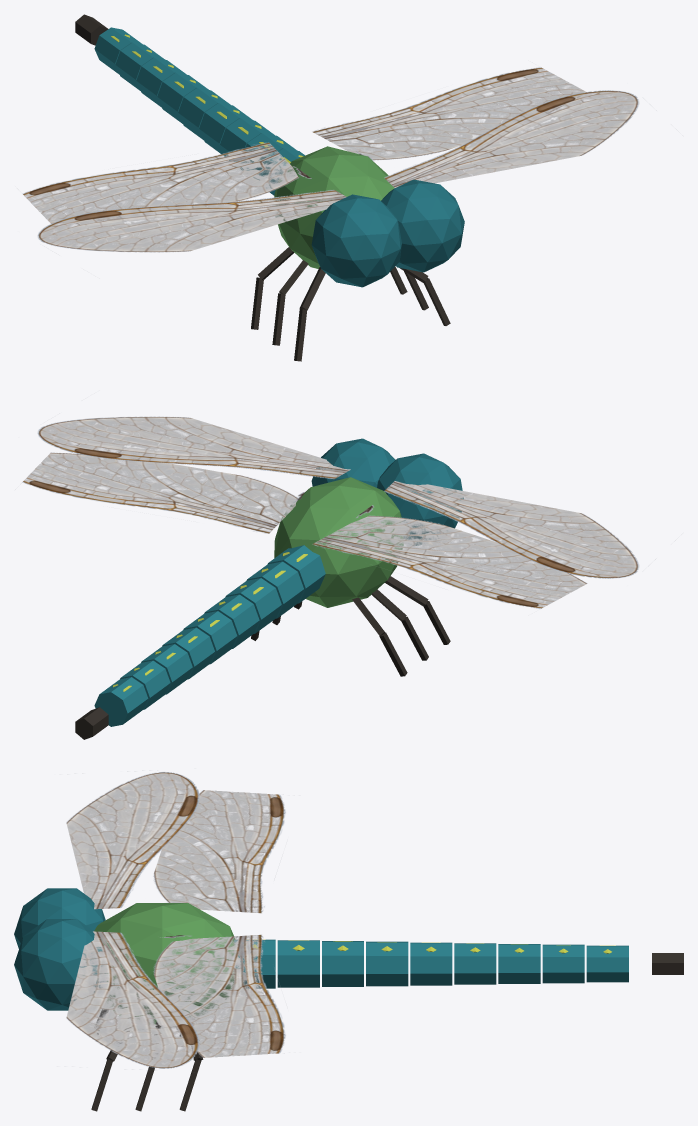
3 renders of one model, top to bottom at view 1: azimuth 30°, elevation 25°; view 2: azimuth 150°, elevation 25°; view 3: azimuth 270°, elevation 25°, orthographic. The views are drawn at different scales.
Parts seen in each view (by area): view 1: Dragonfly; view 2: Dragonfly; view 3: Dragonfly.
Boxes of the visible parts, x1,y1,x2,y2 form: Dragonfly: [22, 14, 682, 361]; Dragonfly: [22, 416, 675, 739]; Dragonfly: [14, 772, 683, 1111].
Bounding box in the file's own units: 0.1793 × 0.0464 × 0.167.
7 materials, 2 textured.
